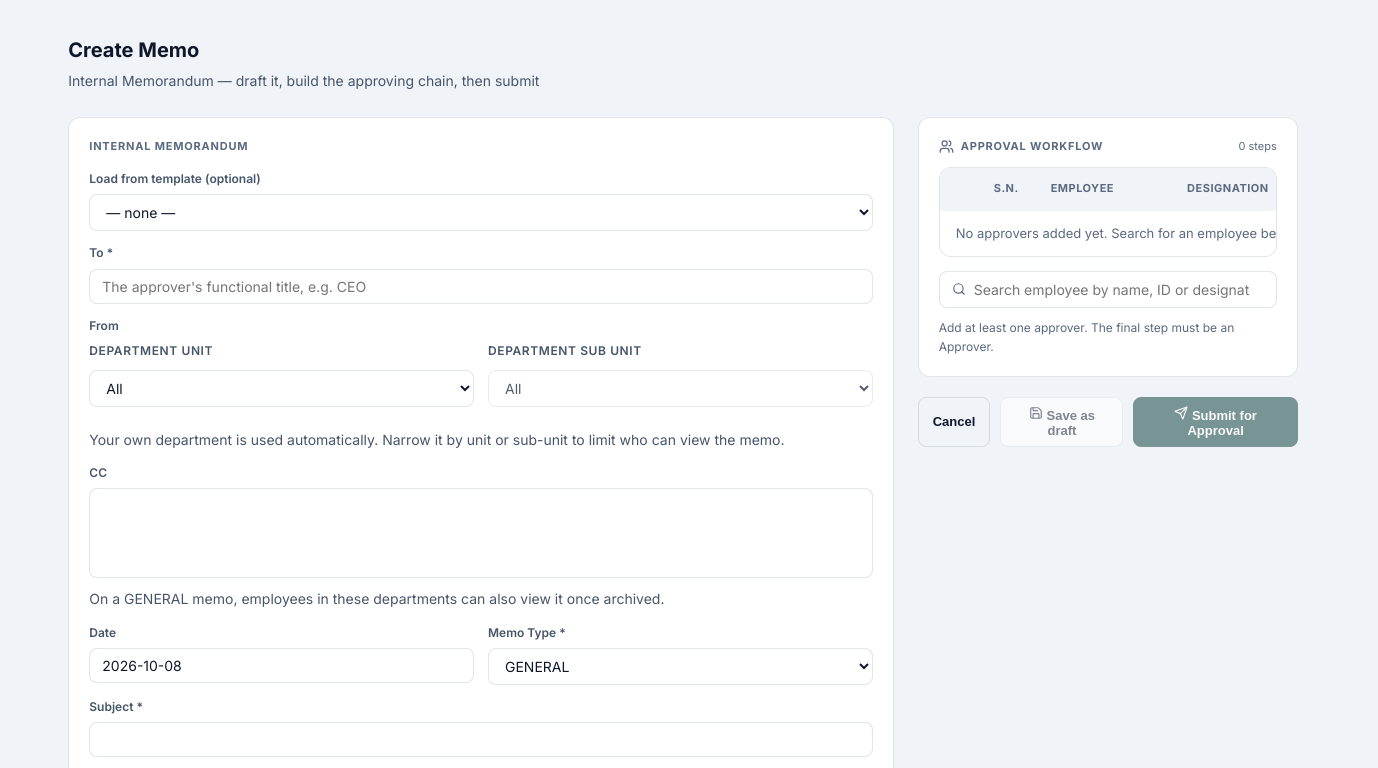
Test case: CreateMemo › loads a template into the form
The width and height of the screenshot is (1378, 768).
Select "General Announcement" in the dropdown named "Load template" at point(481, 213), box [89,194,873,231]
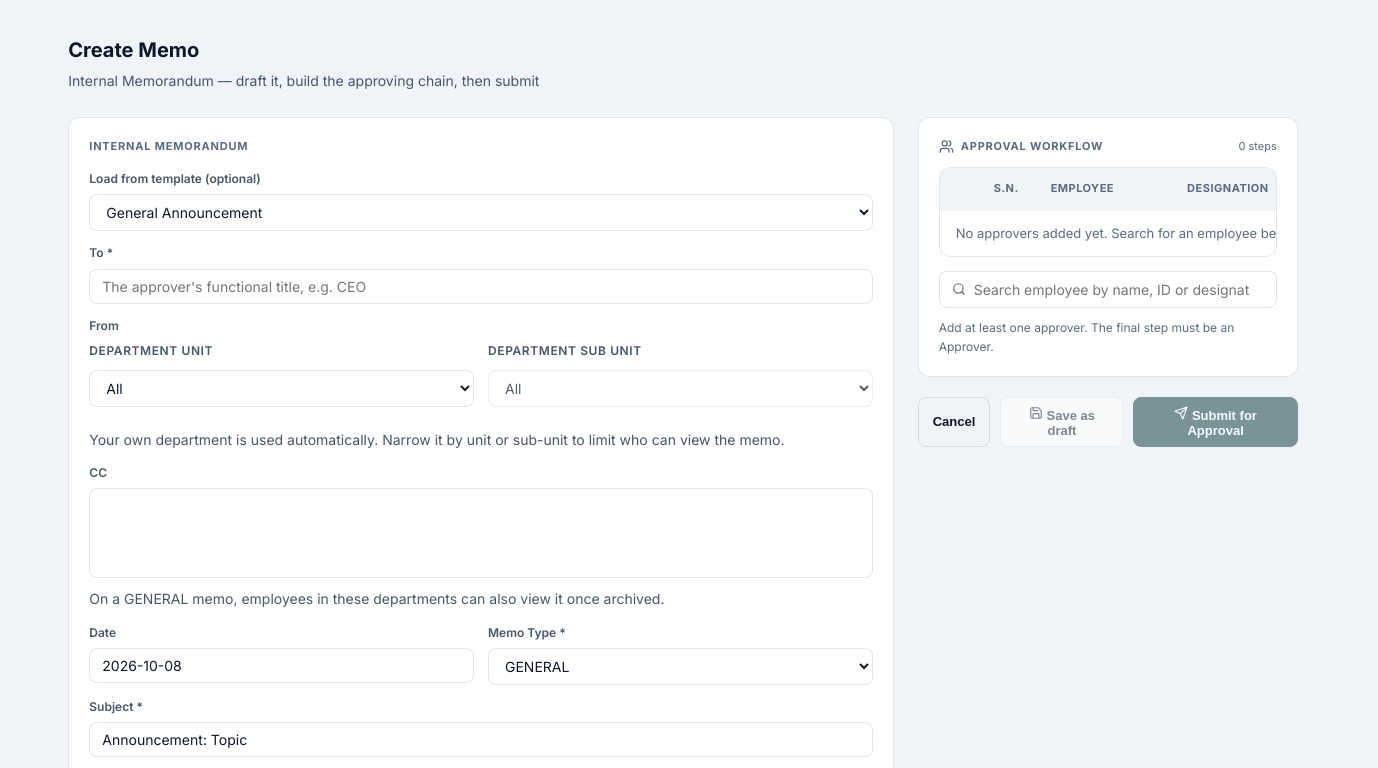
Result: the field labelled "Subject" holds "Announcement: Topic" at [89,722,873,757]
